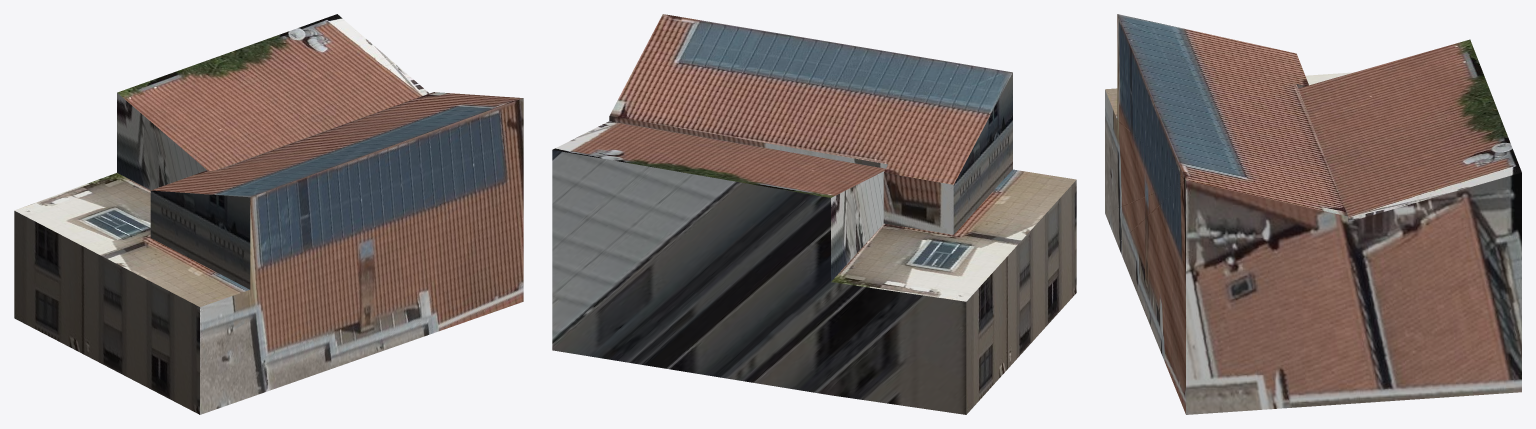
3 views of the same model, side by side, from view 1: azimuth 30°, elevation 25°; view 2: azimuth 150°, elevation 25°; view 3: azimuth 270°, elevation 25° (orthographic). The views are drawn at different scales.
Parts seen in each view (by area): view 1: Z_UP; view 2: Z_UP; view 3: Z_UP.
Part boxes in pixels (left/top/right/bottom): Z_UP: left=14, top=14, right=523, bottom=414; Z_UP: left=552, top=14, right=1076, bottom=414; Z_UP: left=1105, top=14, right=1521, bottom=414.
Size of the model in its own units: 22.45 by 10.94 by 17.64.
2 materials, 1 textured.
